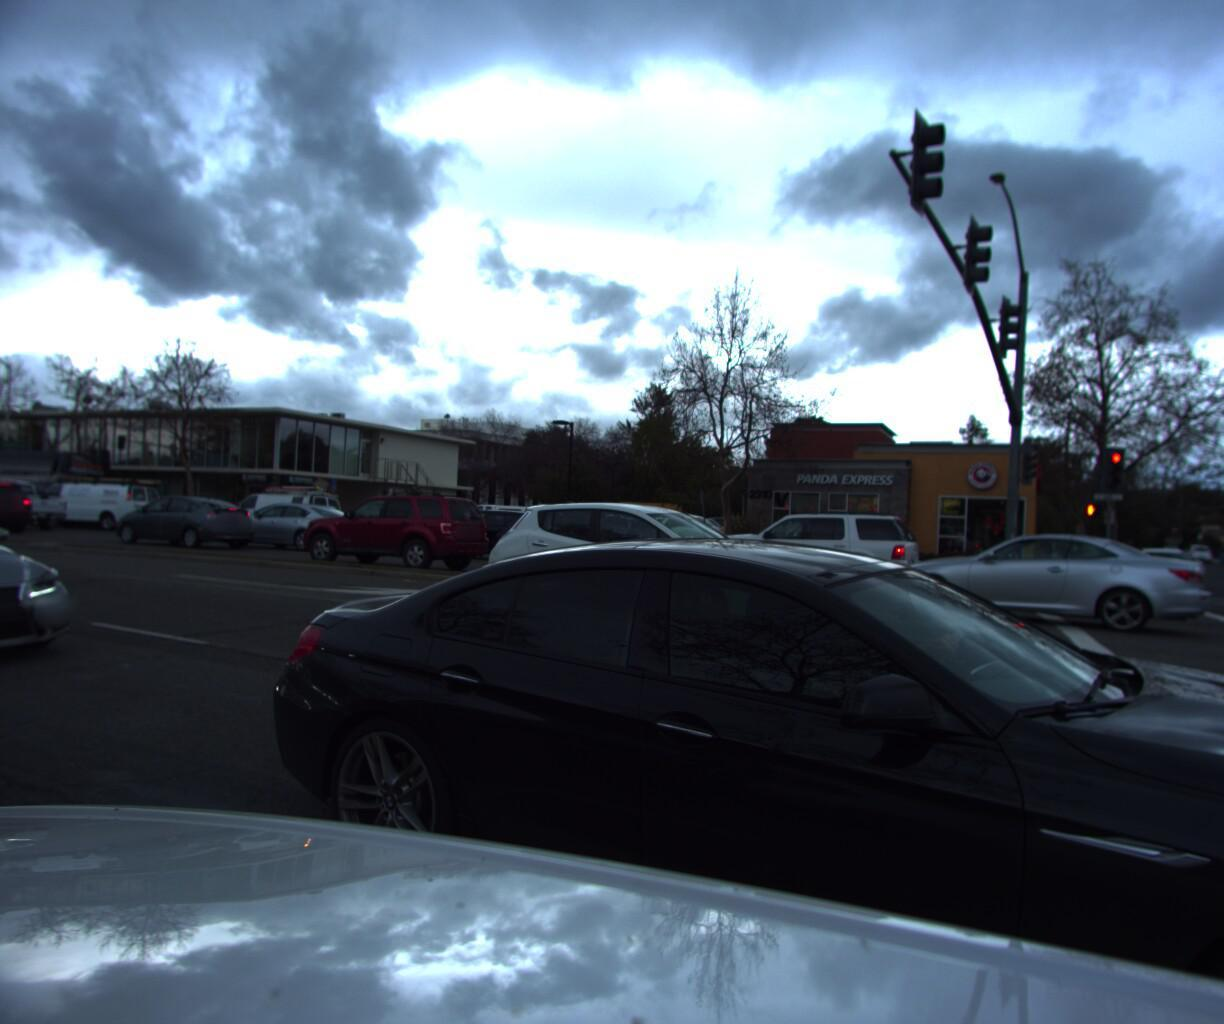bus: (9, 475, 170, 539), (0, 455, 119, 534)
car: (205, 496, 1224, 1024), (474, 493, 841, 645), (874, 523, 1218, 645), (0, 487, 114, 712), (698, 503, 939, 599), (284, 487, 498, 575), (107, 494, 269, 556), (420, 507, 570, 566), (215, 483, 352, 546), (210, 502, 367, 557), (218, 501, 345, 550), (0, 481, 90, 537), (1120, 542, 1205, 595), (0, 479, 42, 539), (1167, 539, 1211, 562)
